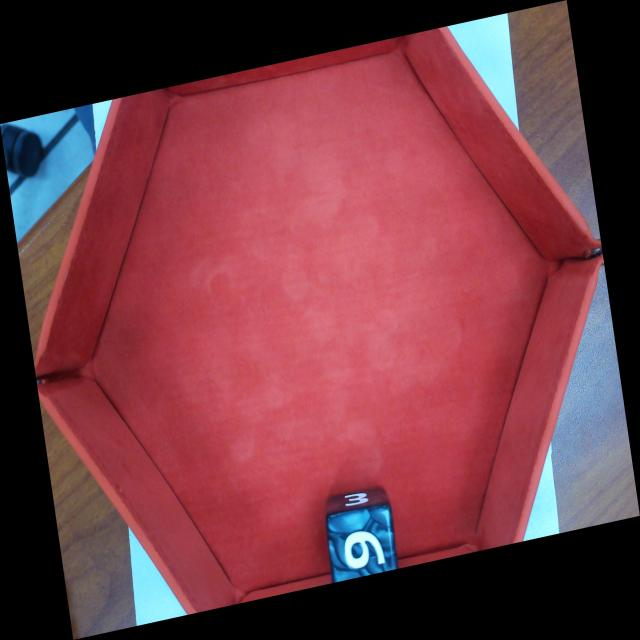dice: (329, 505, 397, 581)
